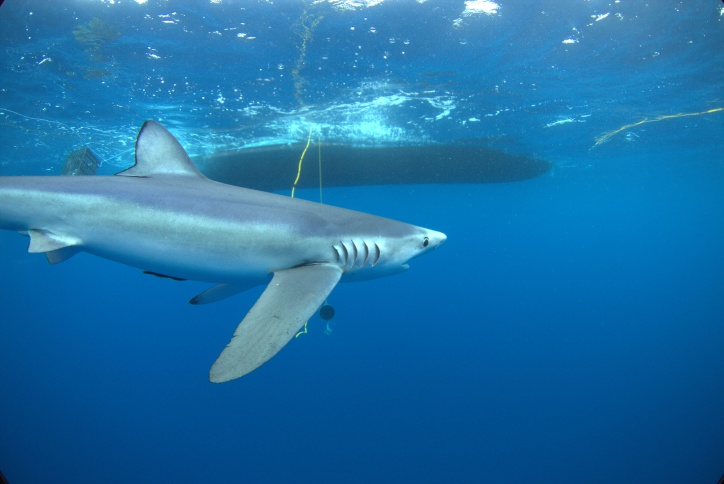Azul: (1, 111, 466, 395)
